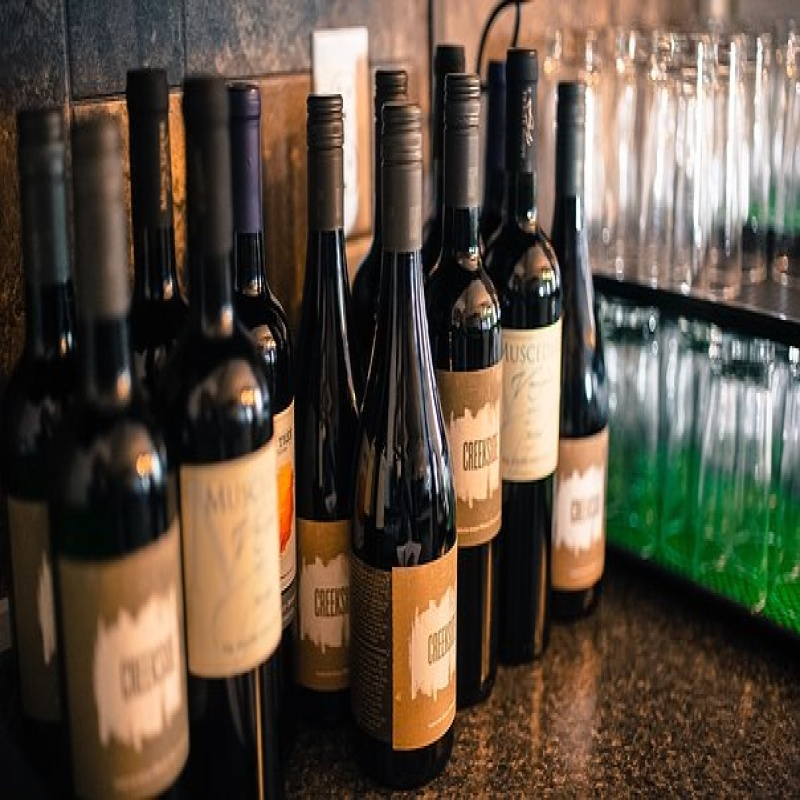wine: (164, 75, 288, 748), (342, 104, 460, 743), (506, 63, 560, 659)
